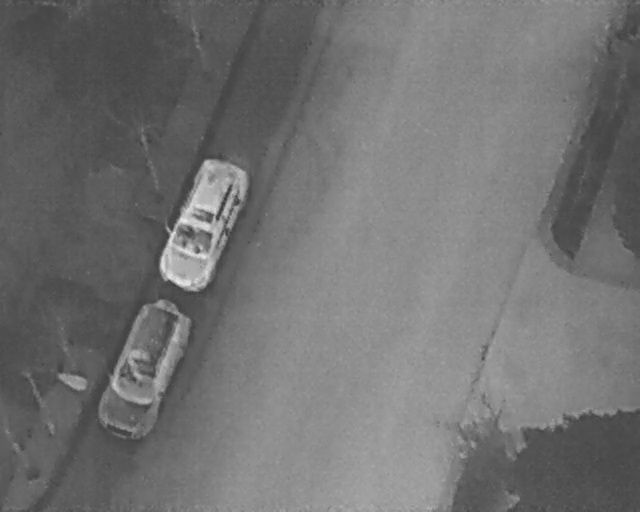Car: (88, 292, 198, 449), (148, 154, 254, 297)
